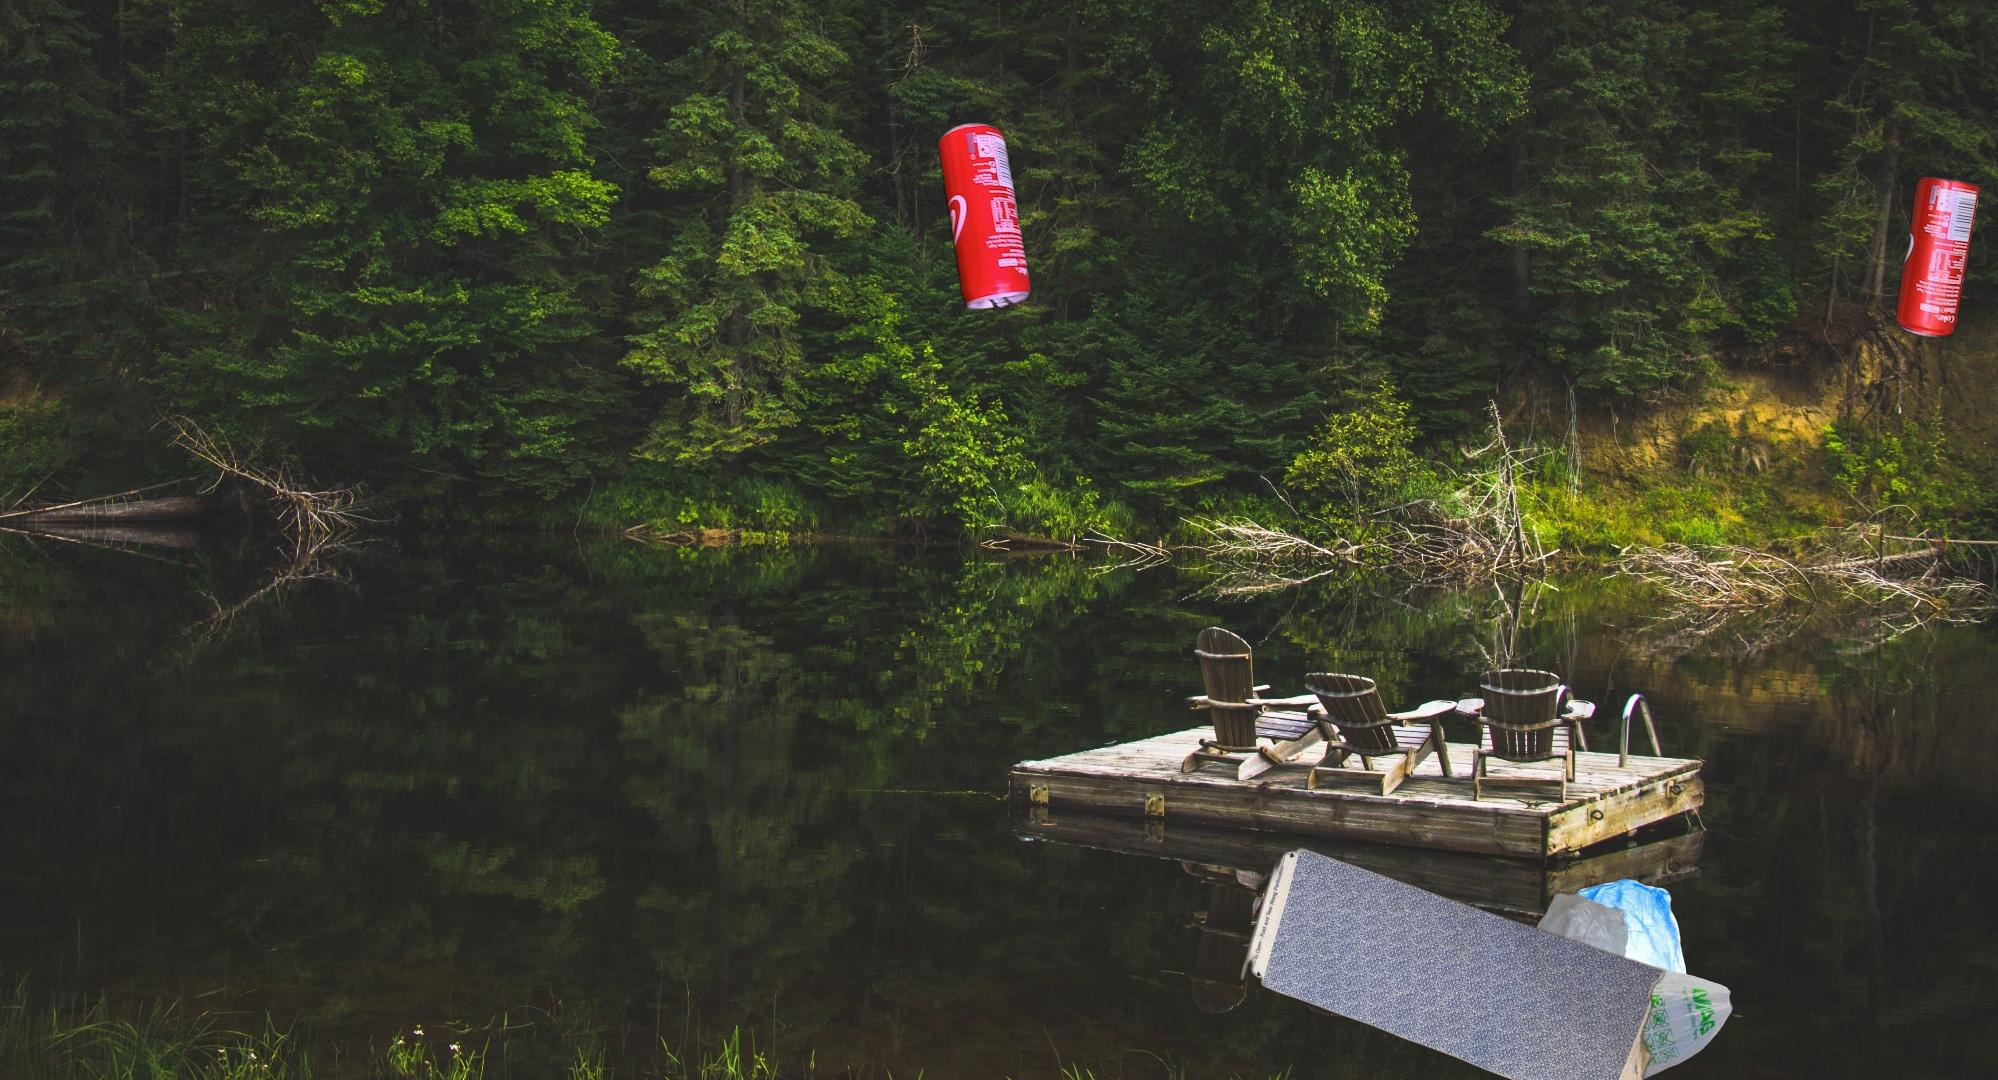metal-cans: (935, 117, 1036, 317), (1890, 172, 1987, 343)
paper: (1238, 810, 1675, 1080)
plastic-bag: (1503, 875, 1763, 1080)
